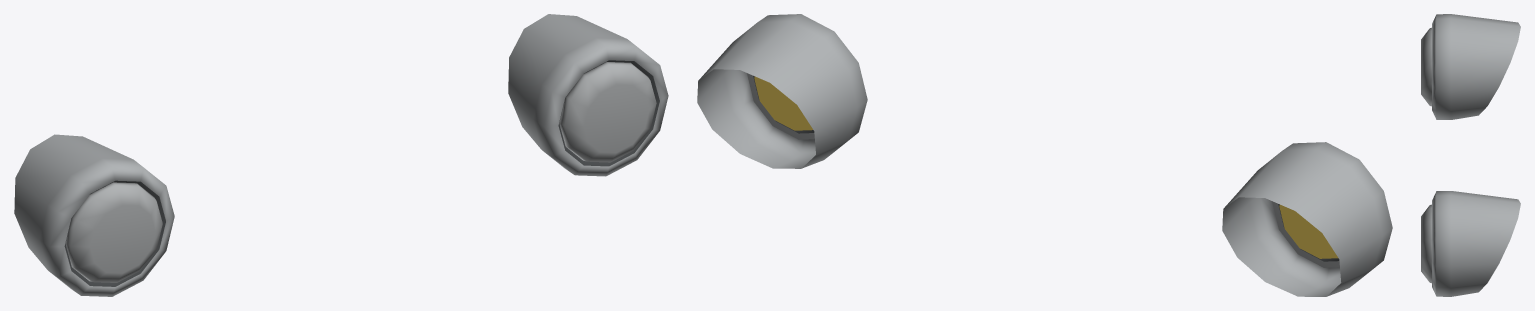
The model's file is Car_08_Headlight_Simple.fbx.
3 views of the same model, side by side, from view 1: azimuth 30°, elevation 25°; view 2: azimuth 150°, elevation 25°; view 3: azimuth 270°, elevation 25° (orthographic). The views are drawn at different scales.
Parts seen in each view (by area): view 1: Car_08_Headlight_Simple; view 2: Car_08_Headlight_Simple; view 3: Car_08_Headlight_Simple.
Boxes of the visible parts, x1,y1,x2,y2 form: Car_08_Headlight_Simple: (14, 14, 668, 296); Car_08_Headlight_Simple: (697, 14, 1392, 296); Car_08_Headlight_Simple: (1421, 14, 1520, 296).
Bounding box in the file's own units: 160 × 30.5 × 32.5.
